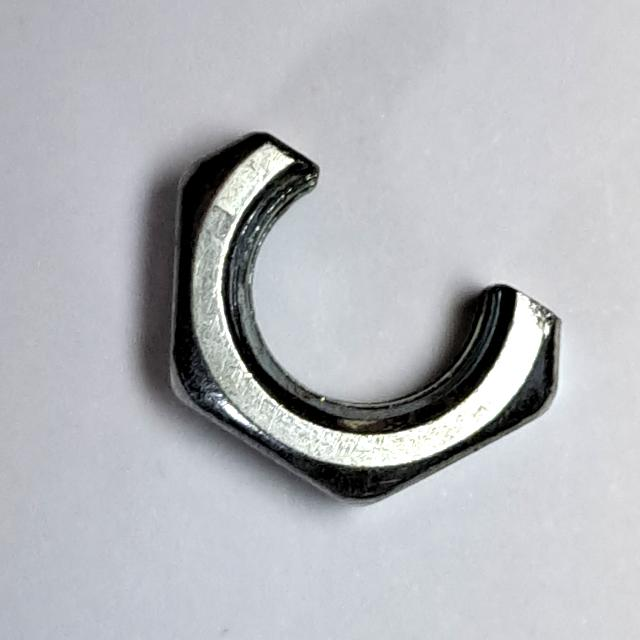Fracture: (151, 115, 580, 517)
